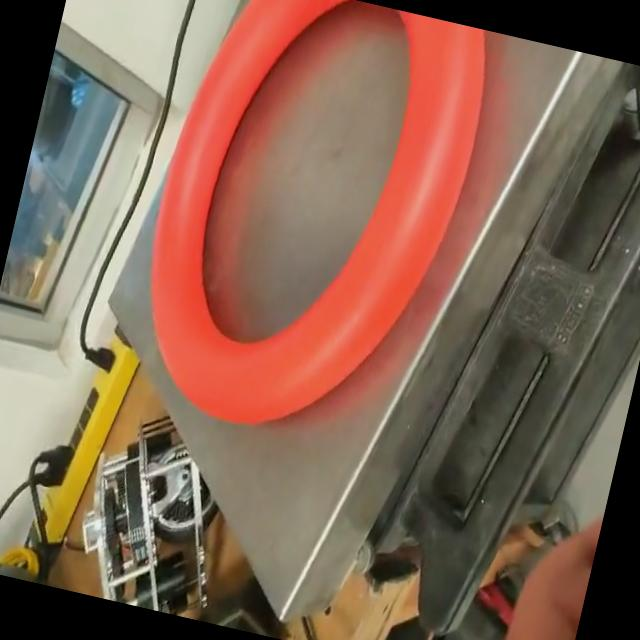note: (109, 0, 506, 468)
